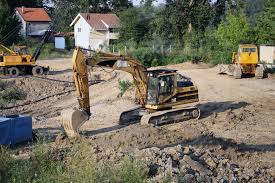excavator: (61, 47, 202, 139)
